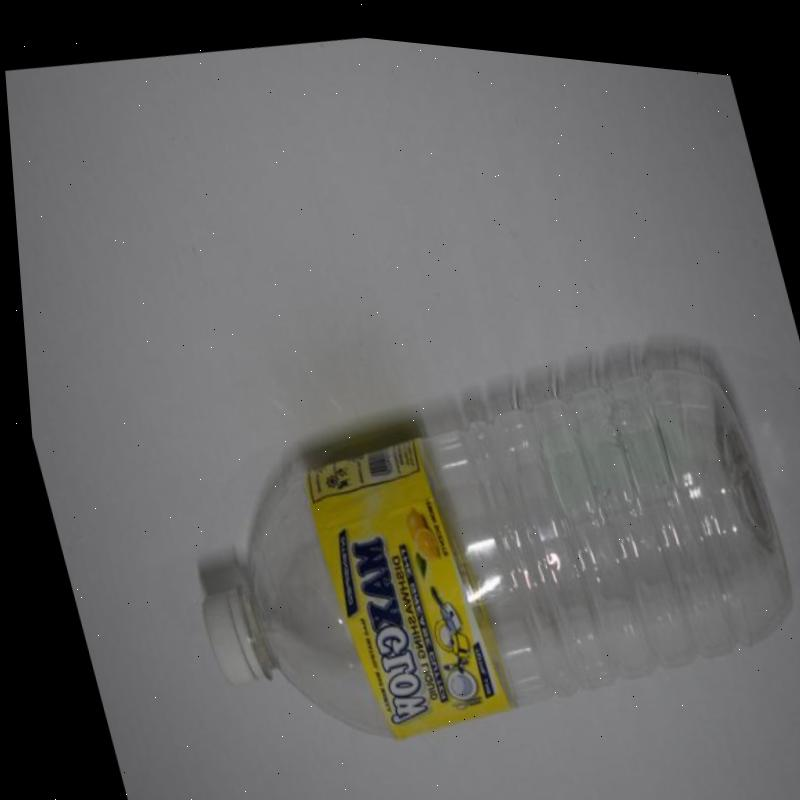botella: (133, 290, 800, 800)
